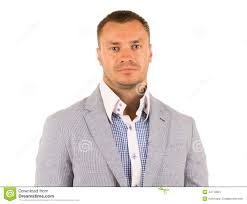white_male: (93, 16, 148, 81)
